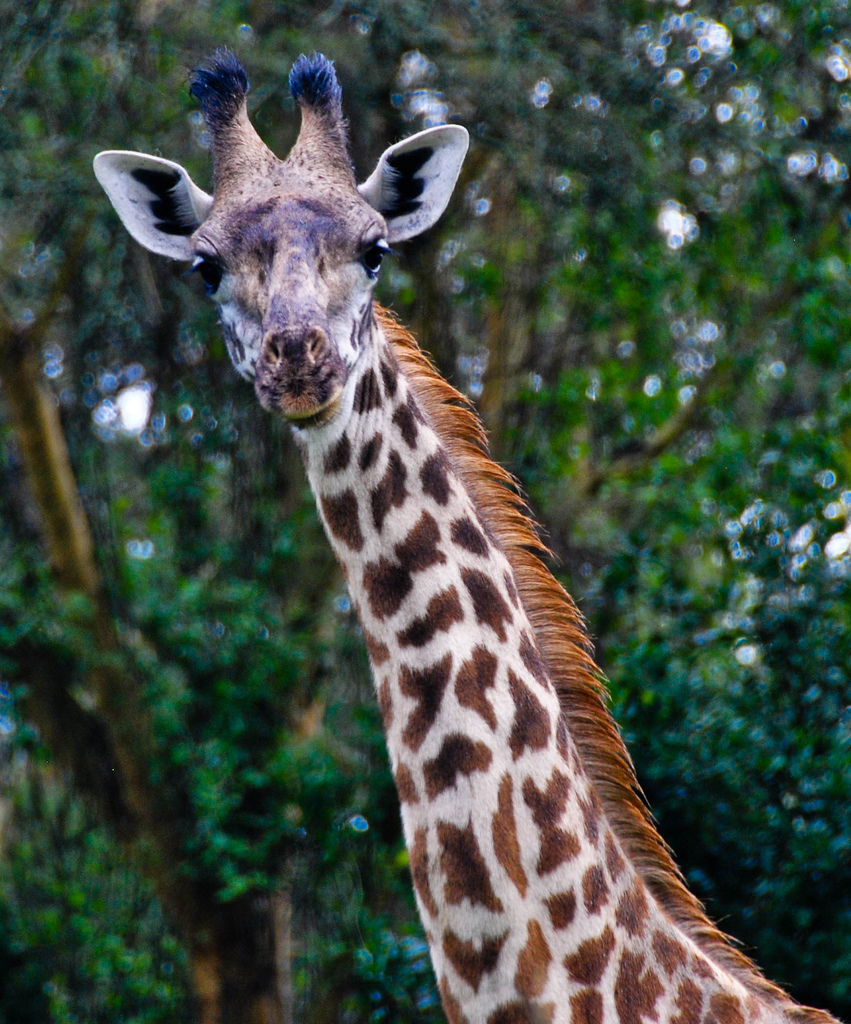giraffe: (85, 68, 782, 947)
